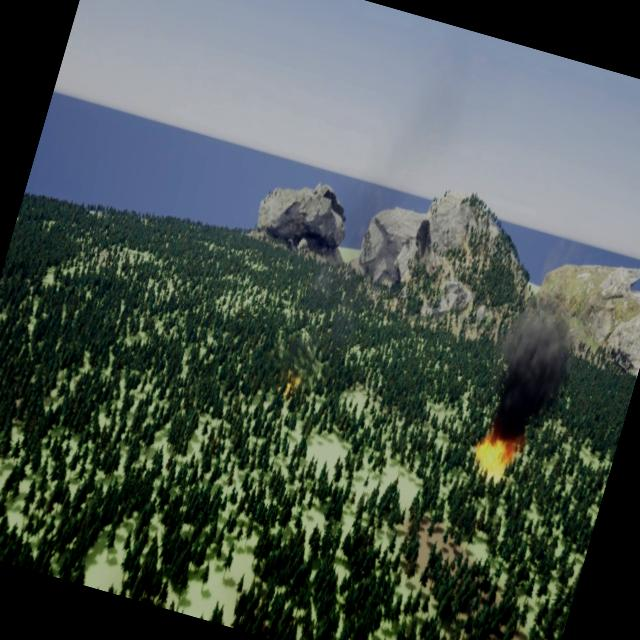fire: (463, 422, 528, 486), (274, 362, 304, 398)
smoke: (482, 293, 580, 439)
